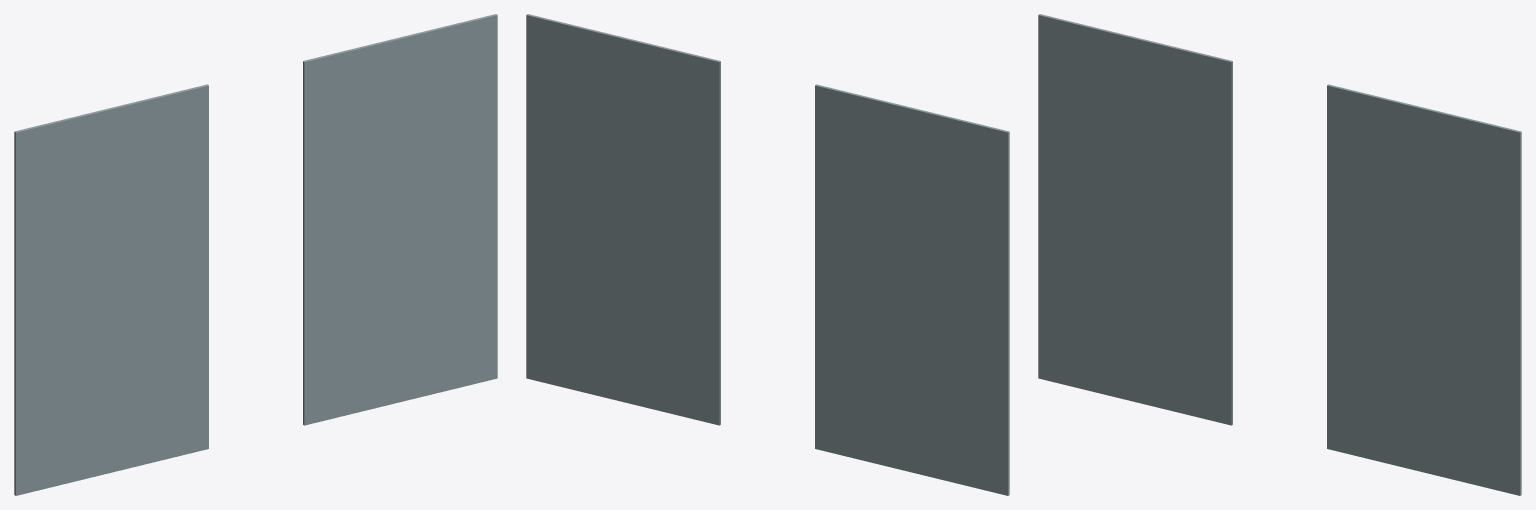
Rendered from SM_Aurelion_KIT_Z12ArmoredViewPane_8x6.fbx.
3 renders of one model, left to right at view 1: azimuth 30°, elevation 25°; view 2: azimuth 150°, elevation 25°; view 3: azimuth 330°, elevation 25°, orthographic.
Parts seen in each view (by area): view 1: SM_Aurelion_KIT_Z12ArmoredViewPane_8x6; view 2: SM_Aurelion_KIT_Z12ArmoredViewPane_8x6; view 3: SM_Aurelion_KIT_Z12ArmoredViewPane_8x6.
Part boxes in pixels (x1=…): SM_Aurelion_KIT_Z12ArmoredViewPane_8x6: x1=14, y1=14, x2=497, y2=495; SM_Aurelion_KIT_Z12ArmoredViewPane_8x6: x1=526, y1=14, x2=1009, y2=495; SM_Aurelion_KIT_Z12ArmoredViewPane_8x6: x1=1038, y1=14, x2=1521, y2=495.
Size of the model in its own units: 638 by 3.5 by 460.
